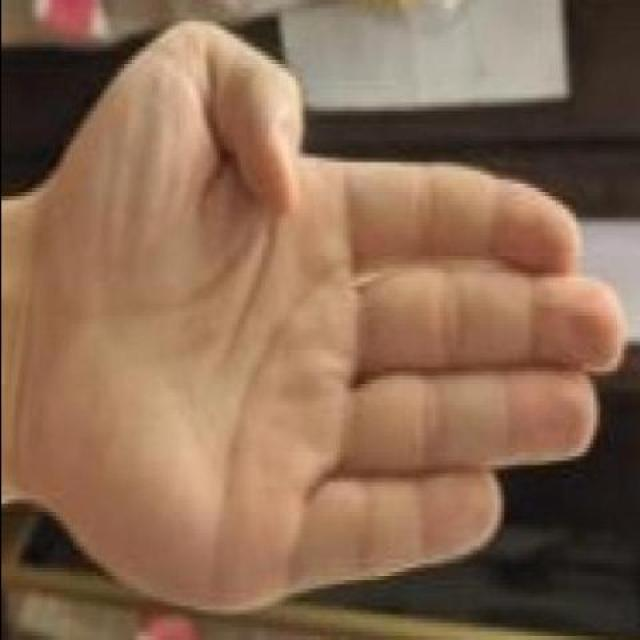Open Hand: (3, 18, 624, 621)
